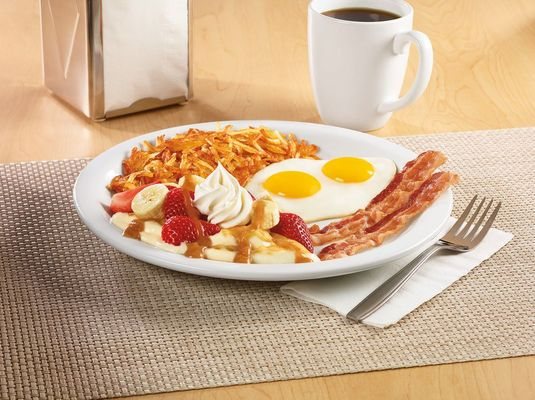burger: (346, 189, 503, 325)
pizza: (306, 0, 433, 132)
